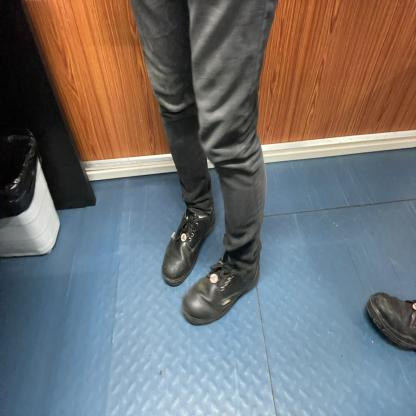bota: (181, 249, 261, 328), (161, 206, 216, 288), (361, 277, 416, 358)
